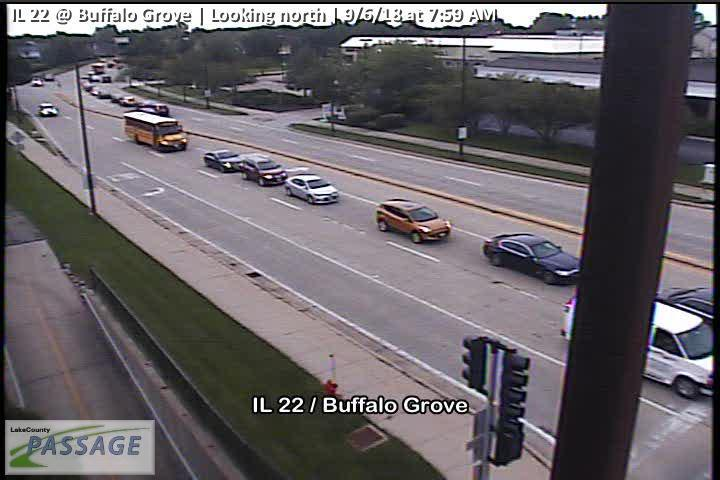Bus: (123, 111, 187, 152)
SUV: (559, 287, 716, 397), (375, 198, 452, 244), (239, 154, 288, 186)
Sedan: (482, 232, 583, 286), (654, 285, 715, 325), (284, 174, 340, 204), (204, 149, 243, 173)
